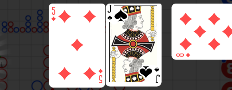5D: (98, 68, 104, 85)
8D: (175, 52, 192, 59)
